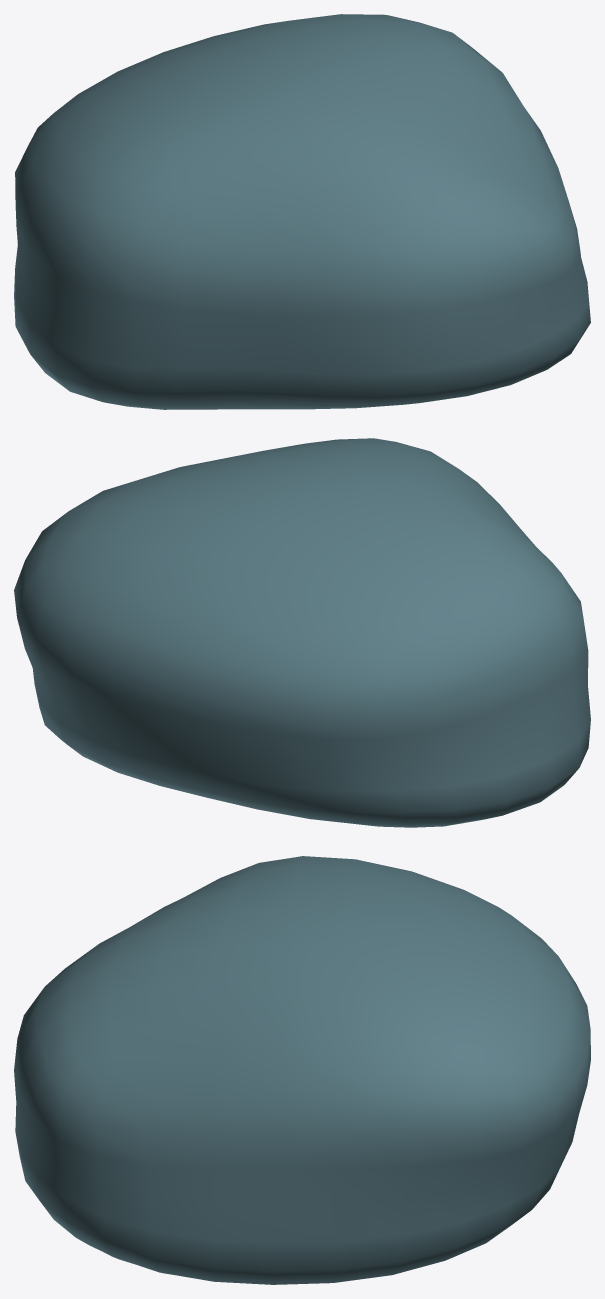
Rendered from Rock_C_04.fbx.
3 views of the same model, one above another, from view 1: azimuth 30°, elevation 25°; view 2: azimuth 150°, elevation 25°; view 3: azimuth 270°, elevation 25° (orthographic). The views are drawn at different scales.
Parts seen in each view (by area): view 1: Rock_C_04_LOD0; view 2: Rock_C_04_LOD0; view 3: Rock_C_04_LOD0.
Boxes of the visible parts, bbox=[...] form: Rock_C_04_LOD0: bbox=[14, 14, 590, 409]; Rock_C_04_LOD0: bbox=[14, 438, 590, 827]; Rock_C_04_LOD0: bbox=[14, 856, 590, 1284].
Size of what is drawn, in the model's own units: 530 by 284 by 522.
